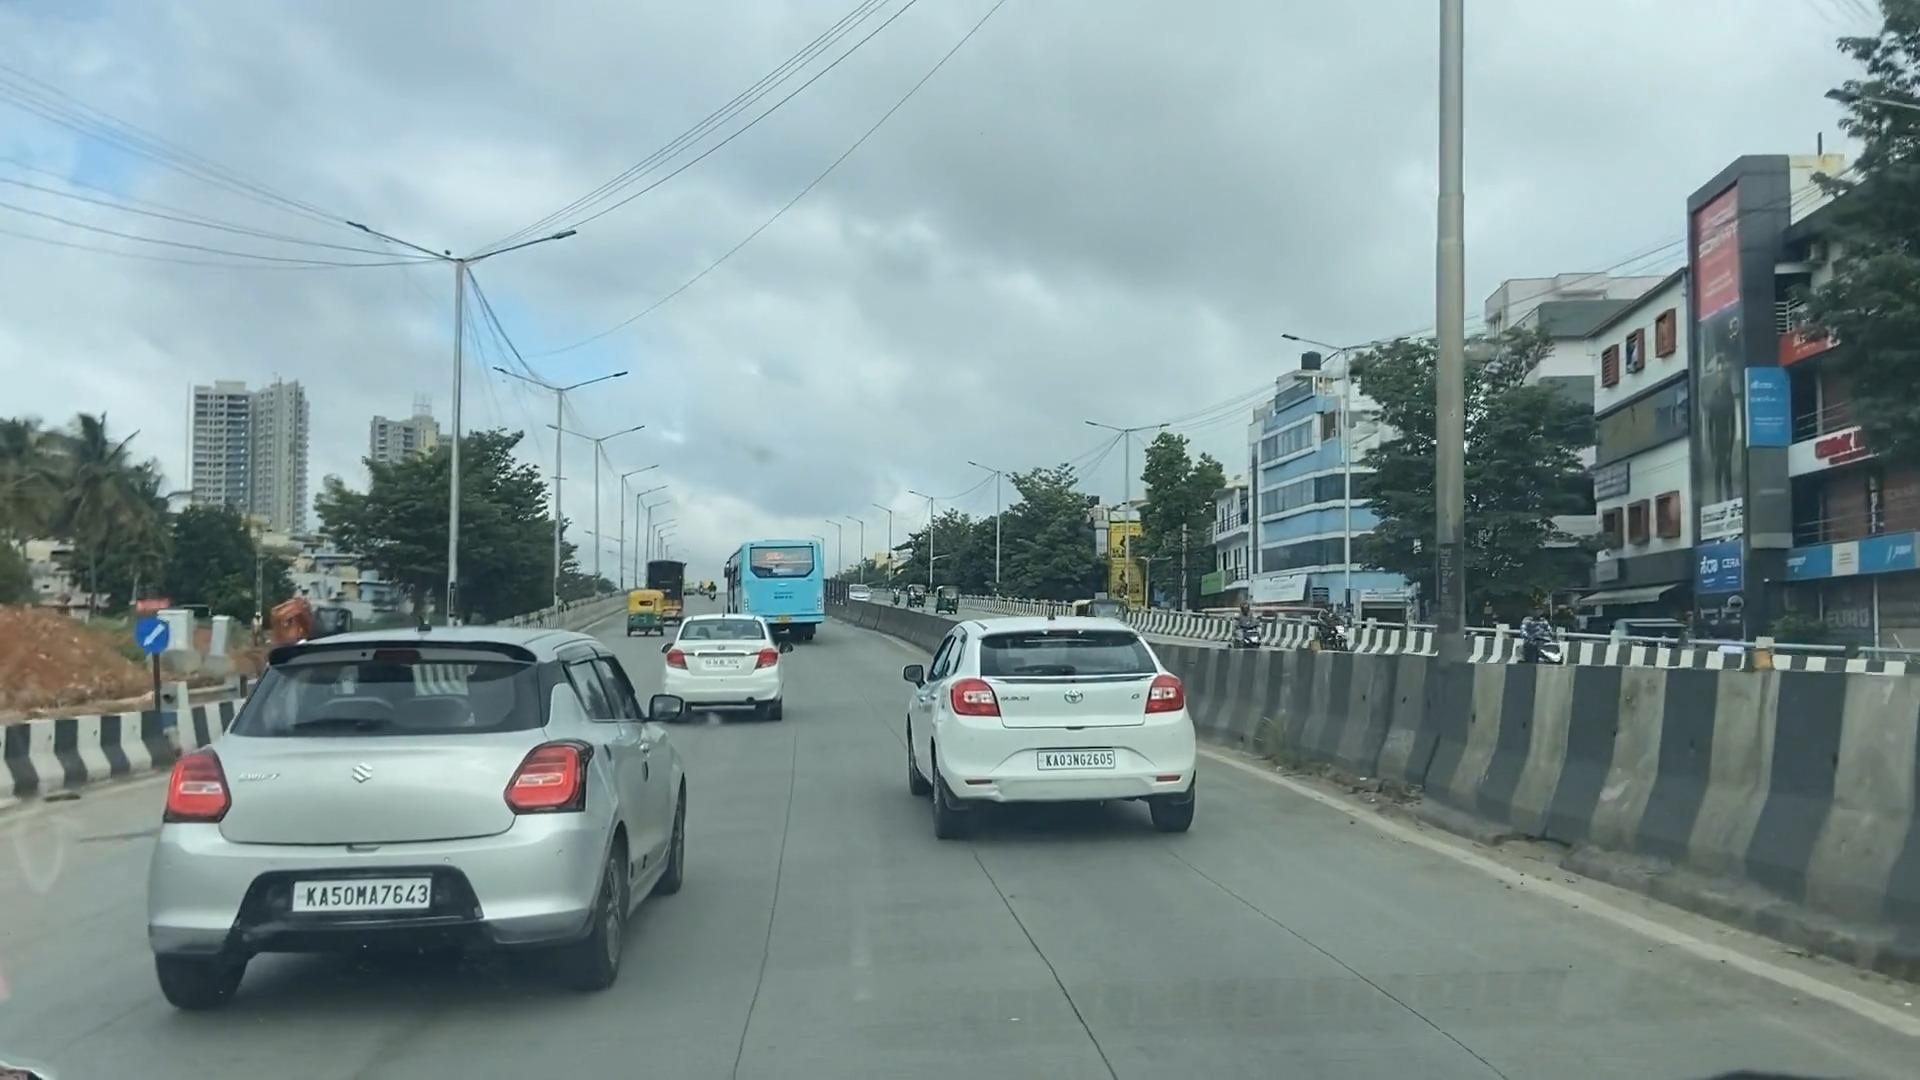HMV: (715, 501, 843, 665)
LMV: (103, 547, 707, 1067), (891, 589, 1224, 862), (638, 584, 795, 738)
